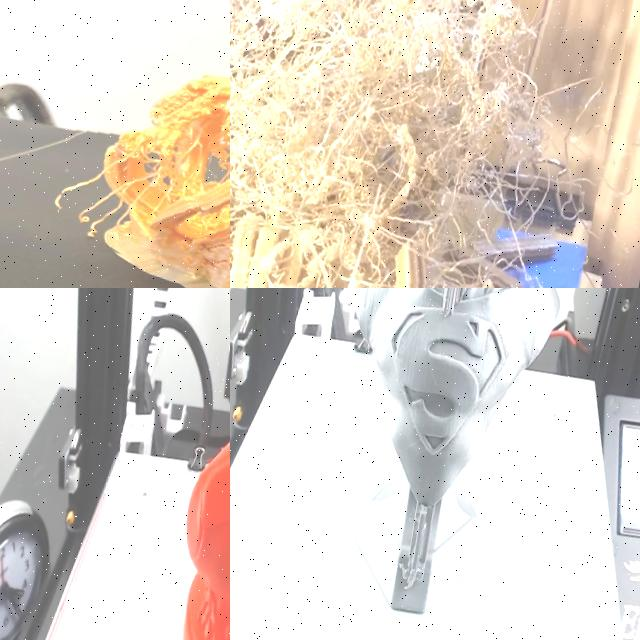spaghetti: (230, 0, 623, 288), (53, 54, 230, 288)
